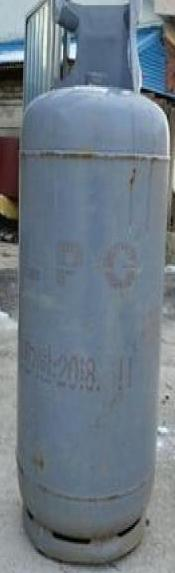cylinder: (0, 1, 175, 573)
